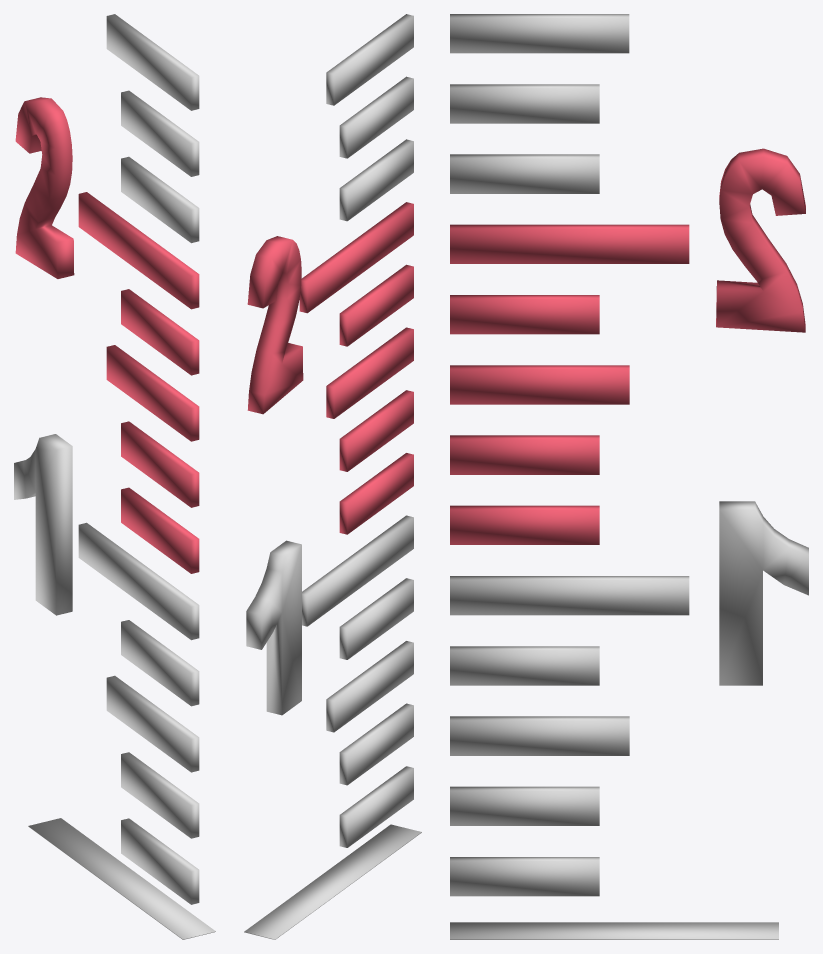
File: WaterLevel1.fbx_Scene.fbx
3 views of the same model, side by side, from view 1: azimuth 30°, elevation 25°; view 2: azimuth 150°, elevation 25°; view 3: azimuth 270°, elevation 25° (orthographic). The views are drawn at different scales.
Parts seen in each view (by area): view 1: obj_0.004; view 2: obj_0.004; view 3: obj_0.004.
Boxes of the visible parts, x1=… form: obj_0.004: x1=14, y1=14, x2=215, y2=939; obj_0.004: x1=244, y1=14, x2=421, y2=939; obj_0.004: x1=450, y1=14, x2=808, y2=939.
Size of the model in its own units: 8900 by 25000 by 1000.
